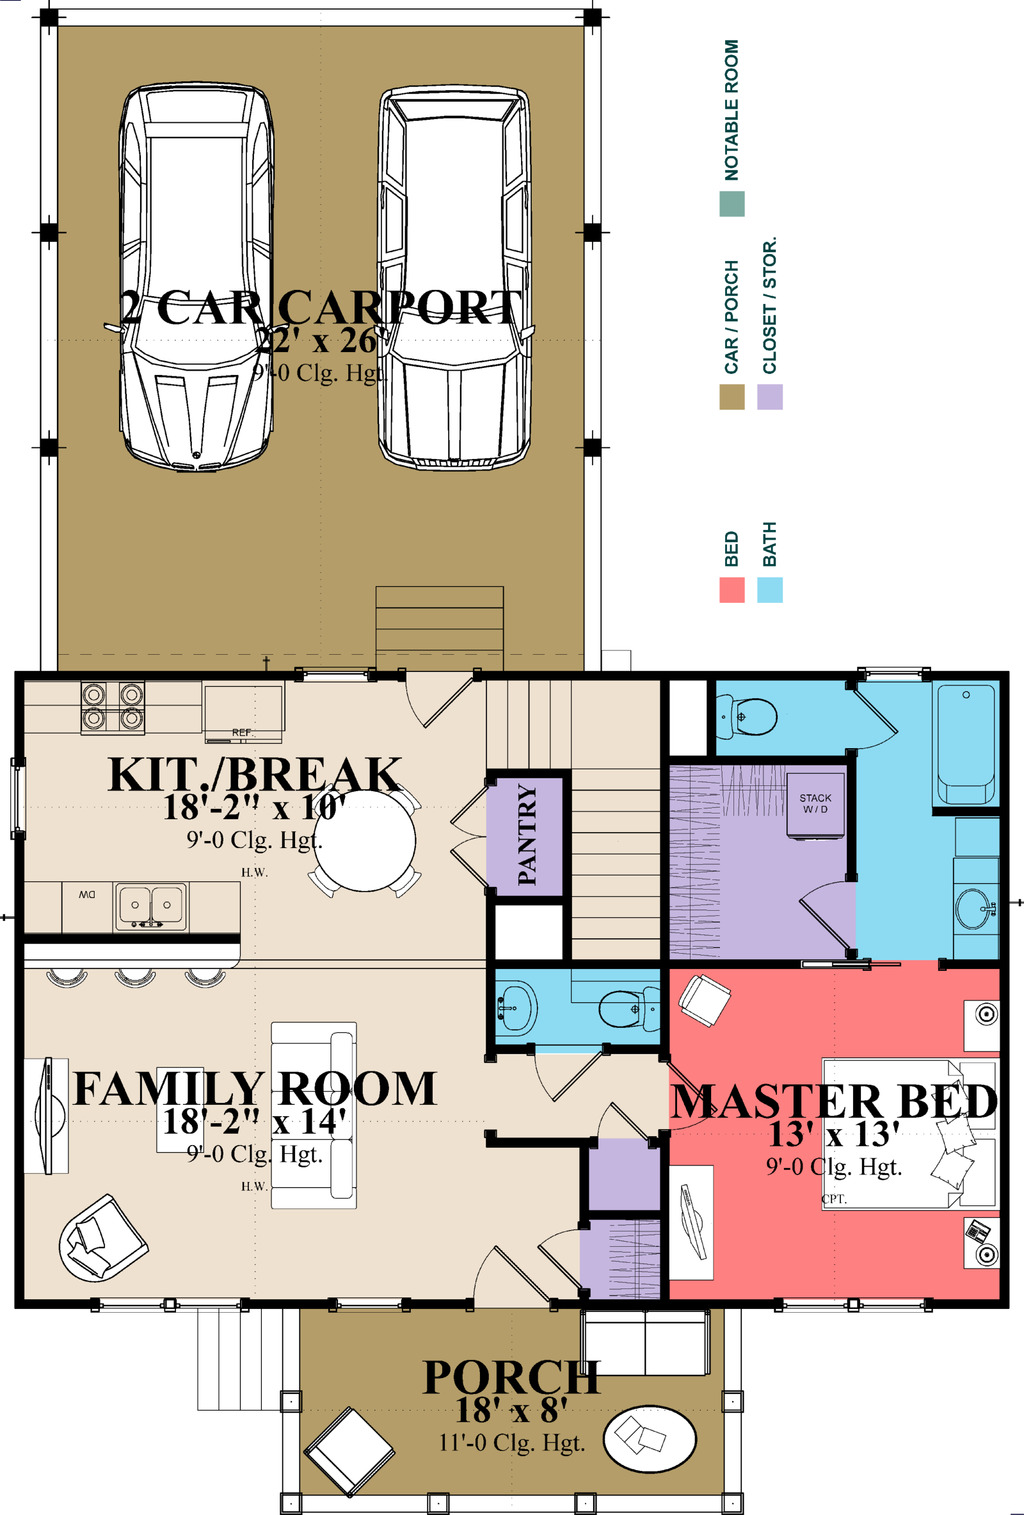door: (469, 1237, 555, 1318), (795, 869, 858, 963), (403, 668, 485, 734), (533, 1040, 611, 1100), (846, 689, 914, 757)
large_sink: (709, 682, 779, 748), (582, 981, 661, 1036)
small_sink: (953, 860, 1001, 957), (487, 961, 542, 1042)
small_sofa: (296, 1402, 395, 1498)
tub: (923, 673, 1001, 808)
